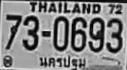0: (53, 15, 68, 50)
3: (105, 17, 122, 52), (22, 14, 38, 49)
6: (70, 16, 86, 51)
7: (5, 14, 21, 49)
9: (88, 16, 104, 52)
NPT: (37, 54, 88, 70)
